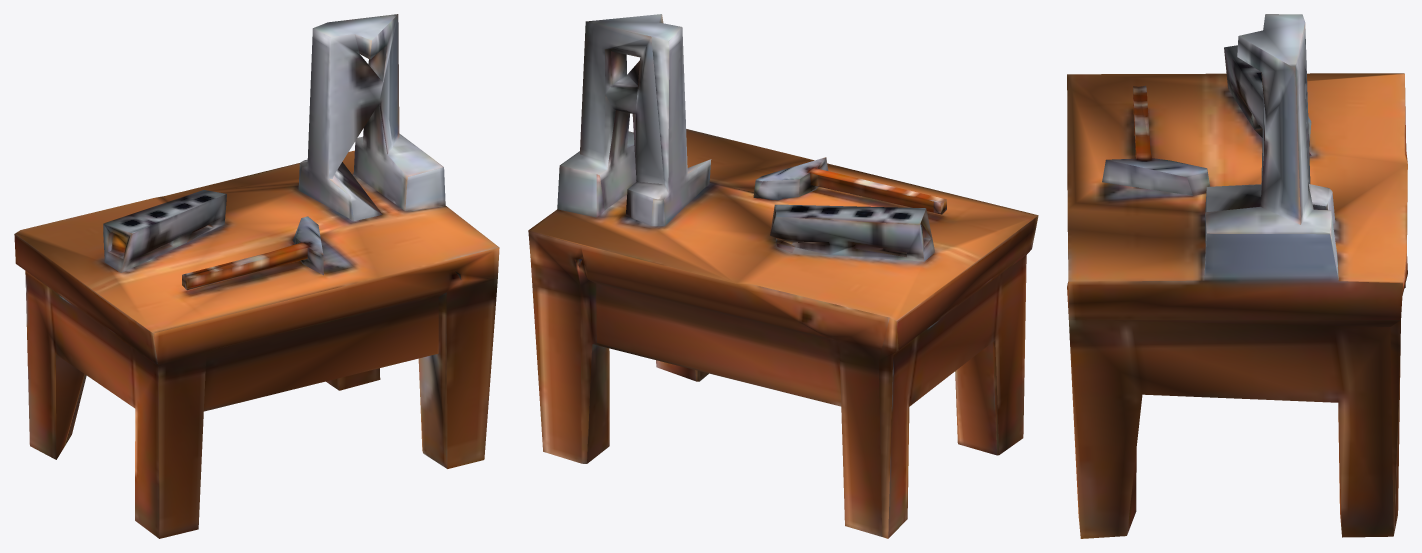
The model's file is workbench.glb.
The picture shows the model from 3 angles, left to right: view 1: azimuth 30°, elevation 25°; view 2: azimuth 150°, elevation 25°; view 3: azimuth 270°, elevation 25°; orthographic projection. The views are drawn at different scales.
Parts seen in each view (by area): view 1: Mesh_0; view 2: Mesh_0; view 3: Mesh_0.
Boxes of the visible parts, x1=… form: Mesh_0: x1=14, y1=14, x2=499, y2=538; Mesh_0: x1=528, y1=14, x2=1038, y2=538; Mesh_0: x1=1067, y1=14, x2=1407, y2=538.
Size of the model in its own units: 0.7075 by 0.7471 by 0.4834.
1 material, 1 textured.
